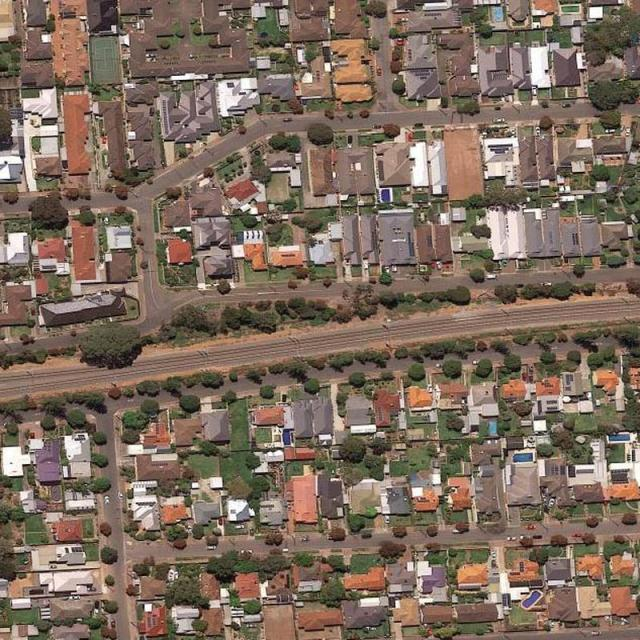vehicle: (241, 547, 254, 554), (118, 490, 126, 501), (591, 630, 602, 637), (492, 118, 506, 123), (434, 362, 445, 368), (506, 536, 517, 542), (604, 129, 616, 134), (206, 545, 216, 551), (347, 135, 352, 147), (532, 86, 538, 96), (472, 359, 482, 365), (105, 494, 110, 506), (69, 595, 81, 600), (377, 66, 382, 77), (487, 274, 498, 279), (542, 282, 553, 287), (174, 570, 179, 581), (299, 537, 310, 542), (520, 534, 531, 539), (549, 498, 555, 507), (536, 126, 542, 135), (110, 619, 116, 628), (363, 260, 368, 270), (452, 529, 462, 534), (492, 550, 498, 558), (249, 528, 254, 537), (437, 261, 442, 270), (279, 548, 288, 553), (385, 515, 390, 524), (532, 535, 543, 539), (372, 125, 382, 129), (626, 126, 630, 136), (234, 525, 244, 529), (526, 525, 536, 529), (187, 525, 191, 534)
